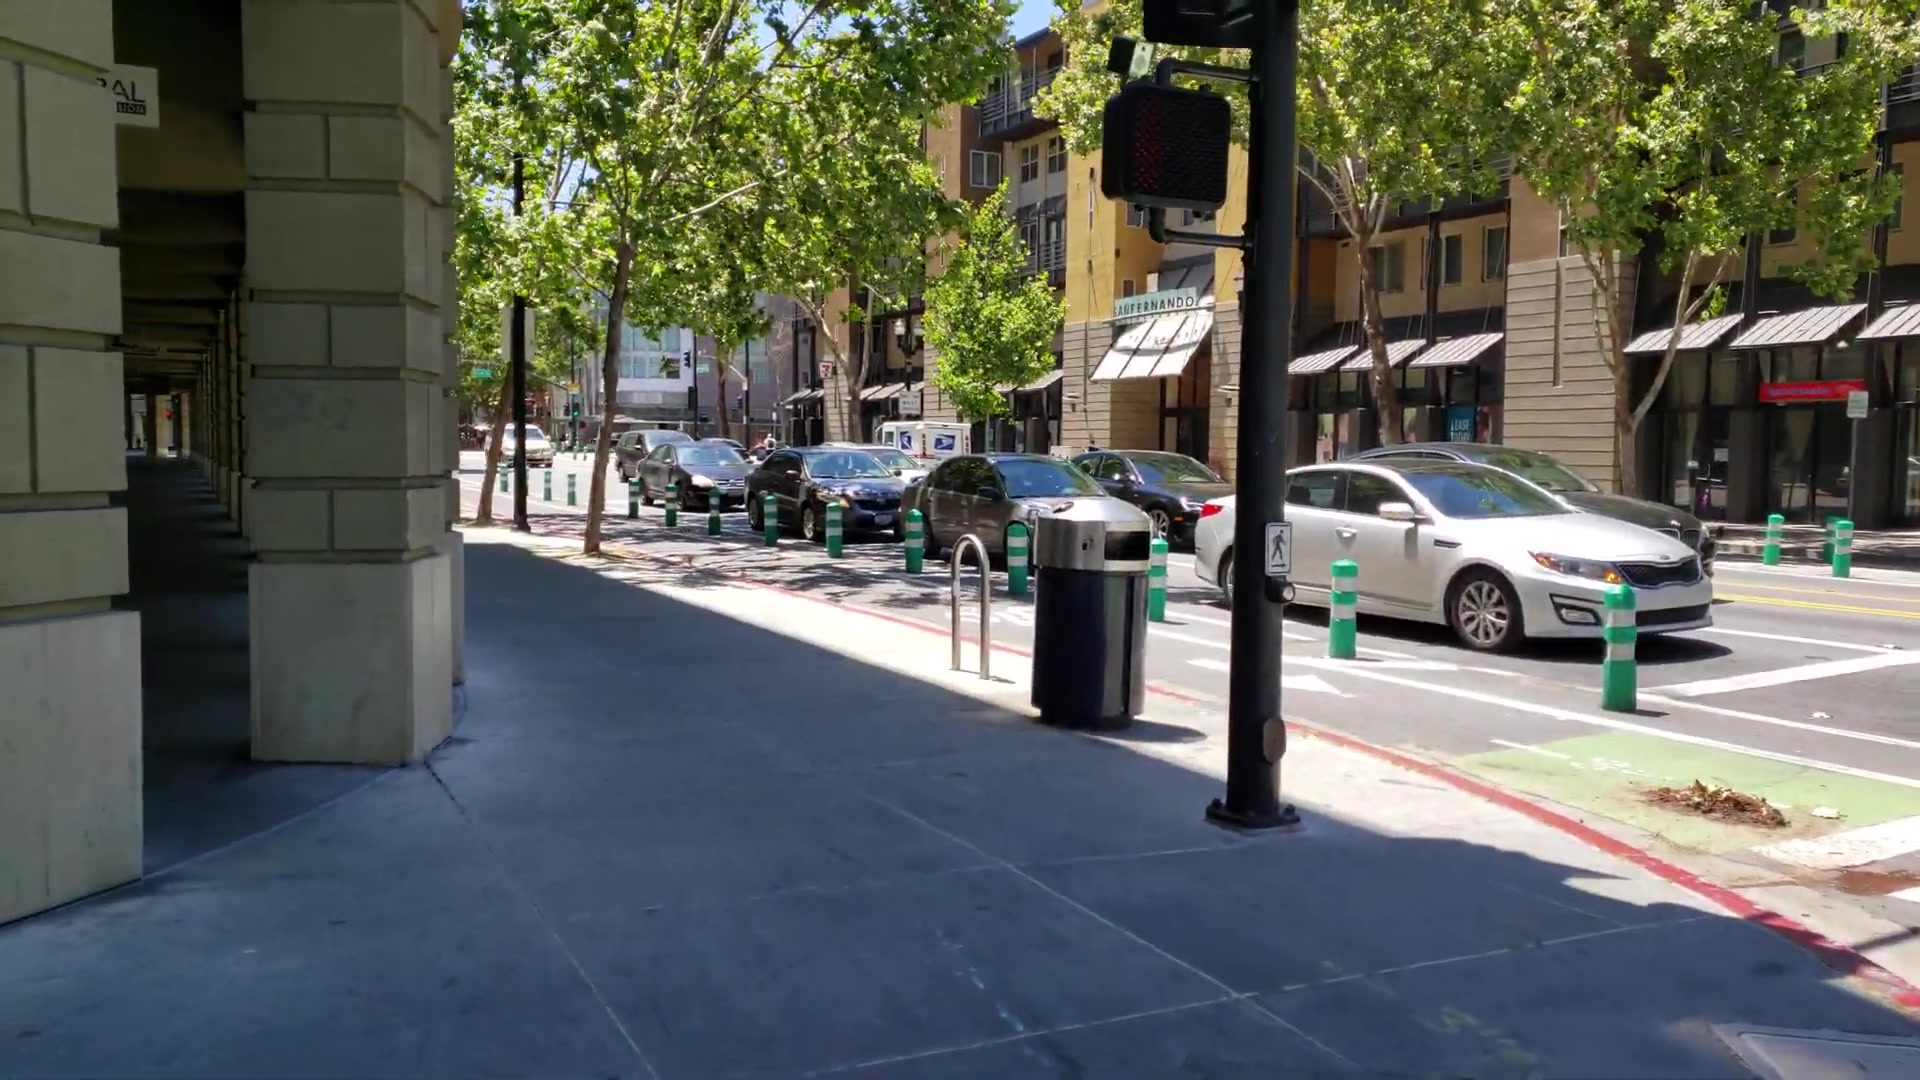vehicle: (1197, 460, 1706, 647), (753, 450, 902, 541), (636, 440, 746, 506)
